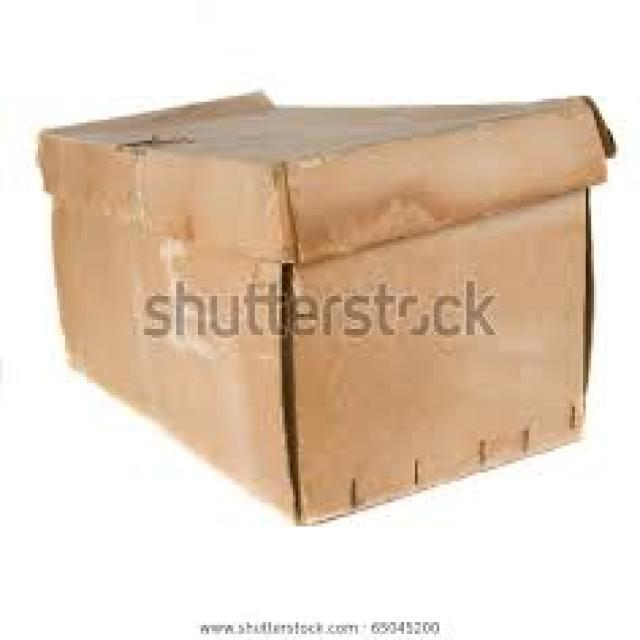Cardboard: (42, 91, 620, 526)
